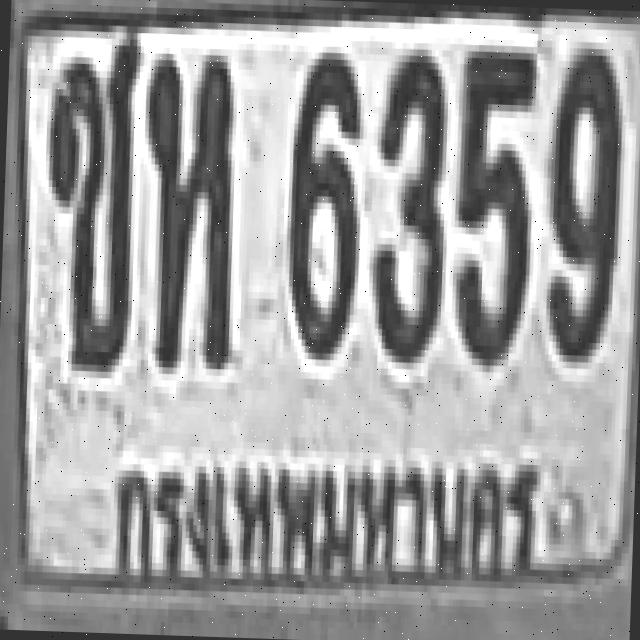0: (541, 41, 621, 357)
19ChorChang: (38, 26, 137, 362)
3: (366, 44, 446, 360)
5: (450, 44, 533, 360)
50HorHeep: (138, 46, 236, 362)
6: (282, 44, 358, 353)
9: (541, 41, 621, 357)
Bangkok: (95, 424, 563, 609)
